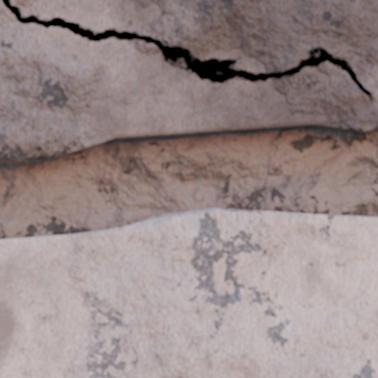brick: (0, 208, 377, 377), (0, 0, 377, 164)
crack: (2, 0, 375, 103)
